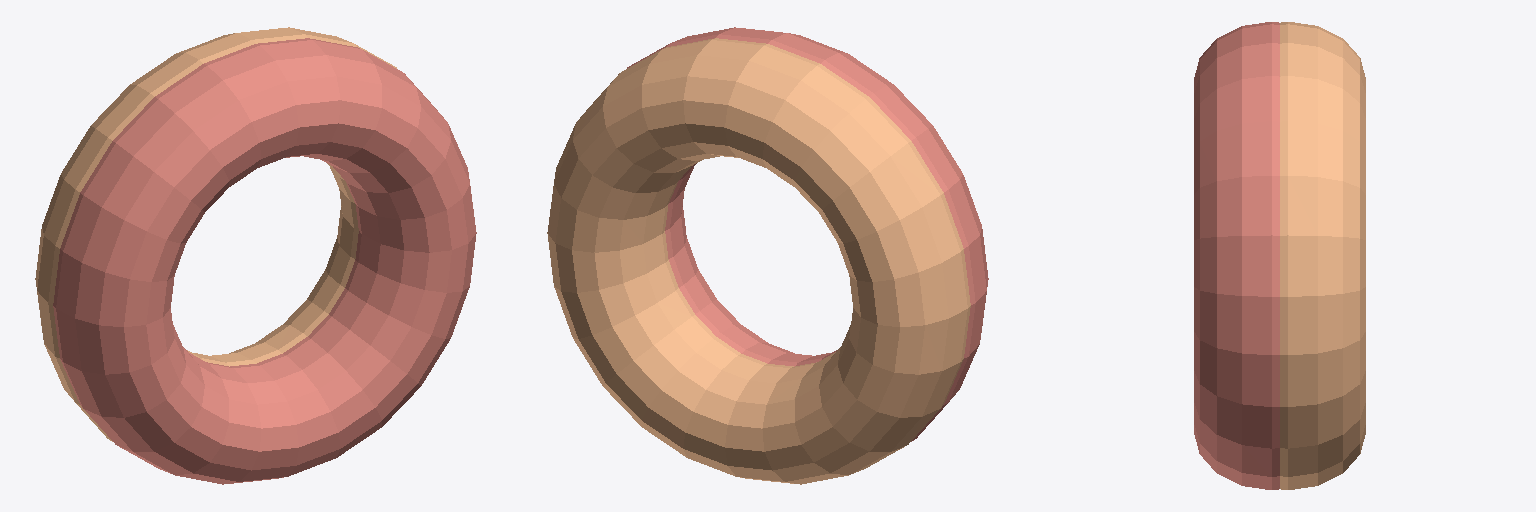
File: tinker.obj
3 views of the same model, side by side, from view 1: azimuth 30°, elevation 25°; view 2: azimuth 150°, elevation 25°; view 3: azimuth 270°, elevation 25° (orthographic).
Visible parts, largest first — view 1: obj_0; view 2: obj_0; view 3: obj_0.
Boxes of the visible parts, box(x1,y1,x2,y2) form: obj_0: box(35, 27, 476, 484); obj_0: box(547, 27, 988, 484); obj_0: box(1194, 22, 1365, 489).
Bounding box in the file's own units: 60 × 60 × 22.